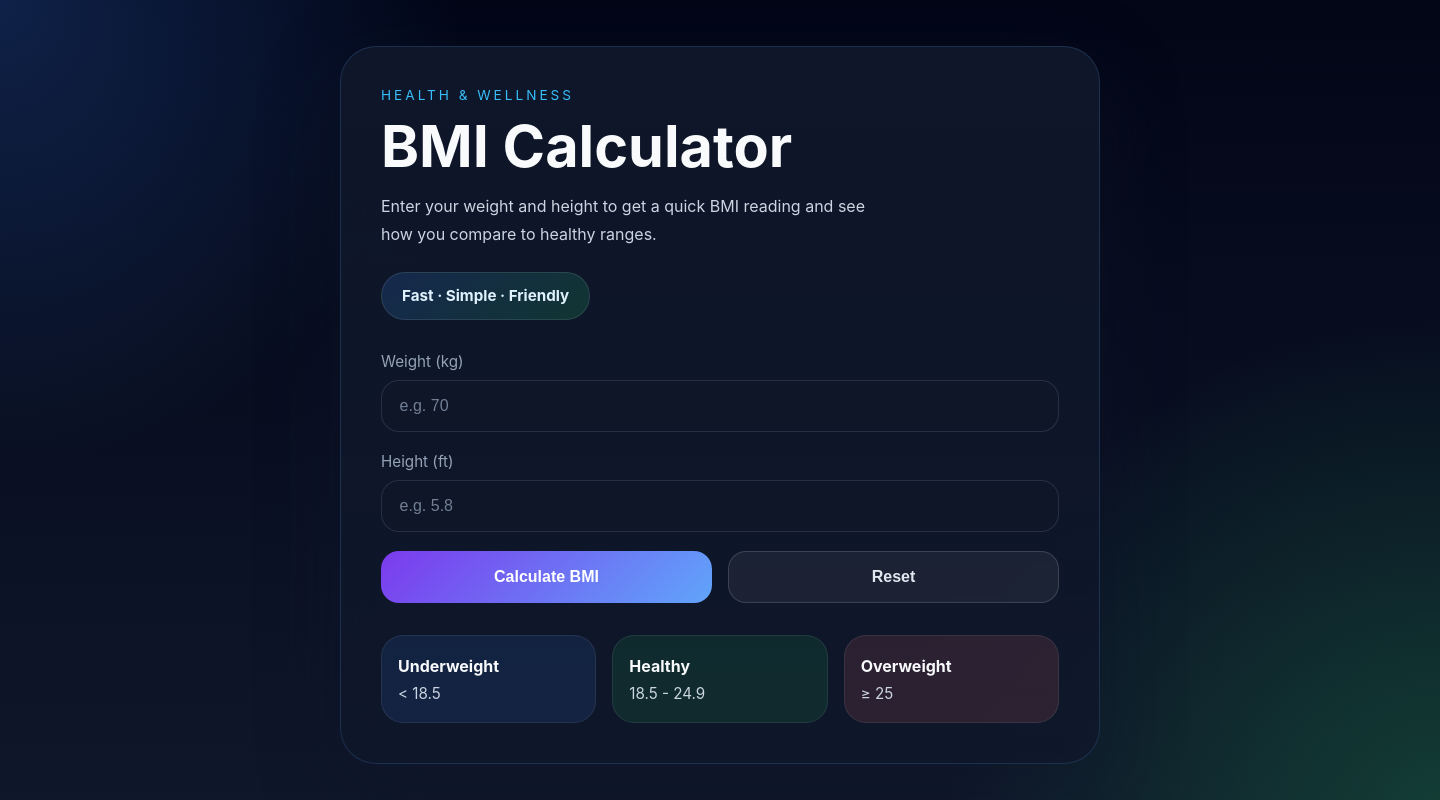
Test case: shows an underweight result for a low BMI
In the number field labelled "Weight (kg)": (720, 406) [381,380,1059,432], type "50"
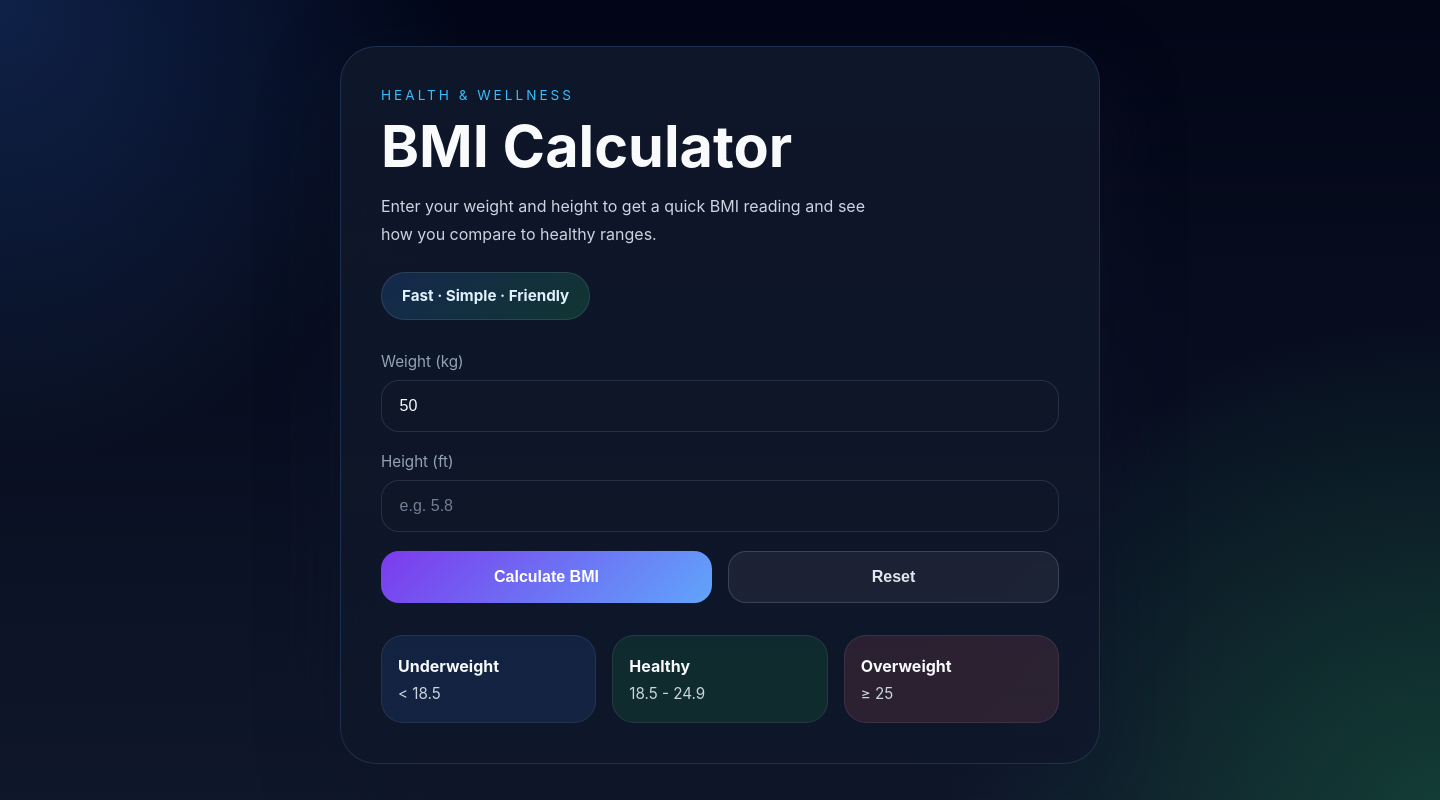
In the number field labelled "Height (ft)": (720, 506) [381,480,1059,532], type "5.8"
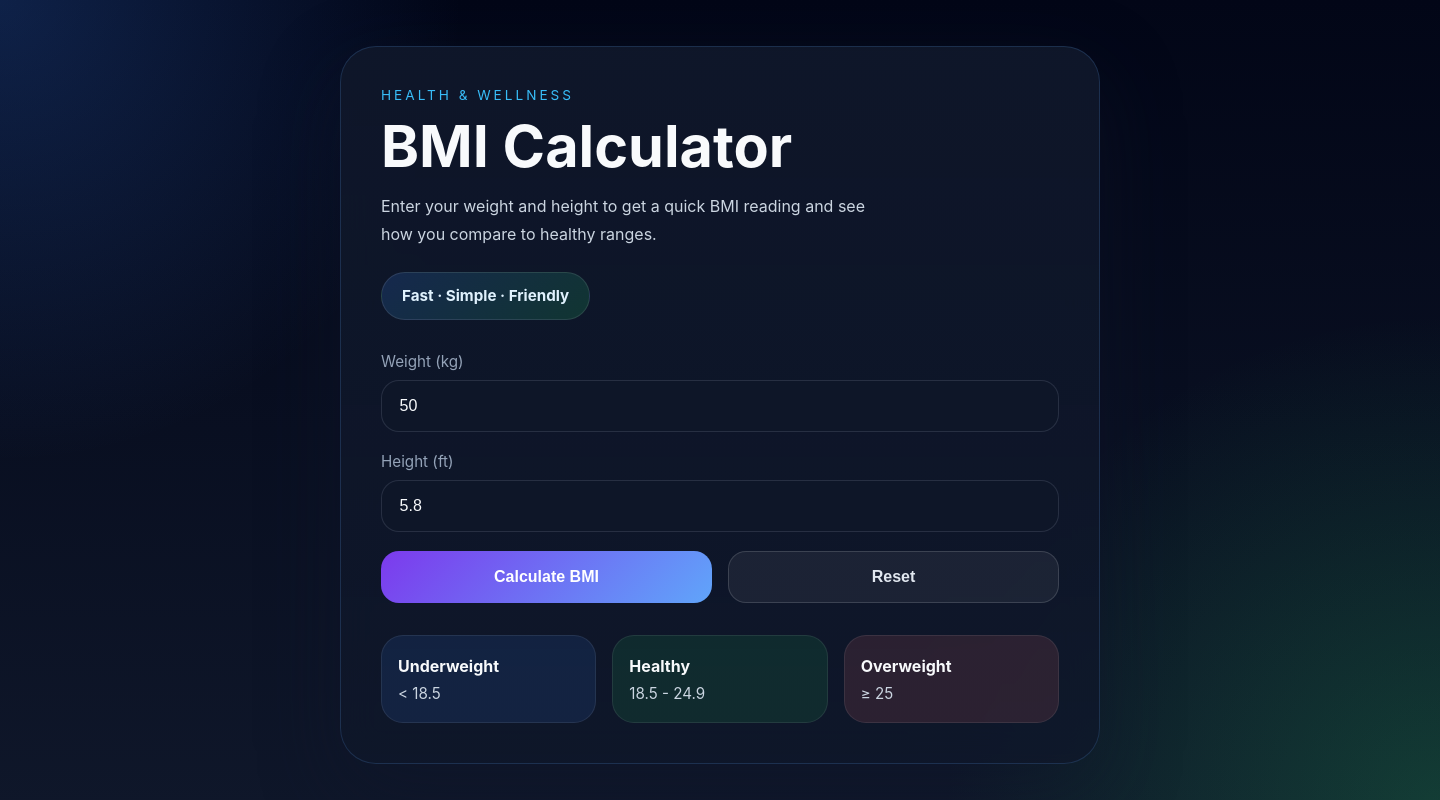
Click the button "Calculate BMI": (546, 577) [381,551,712,603]
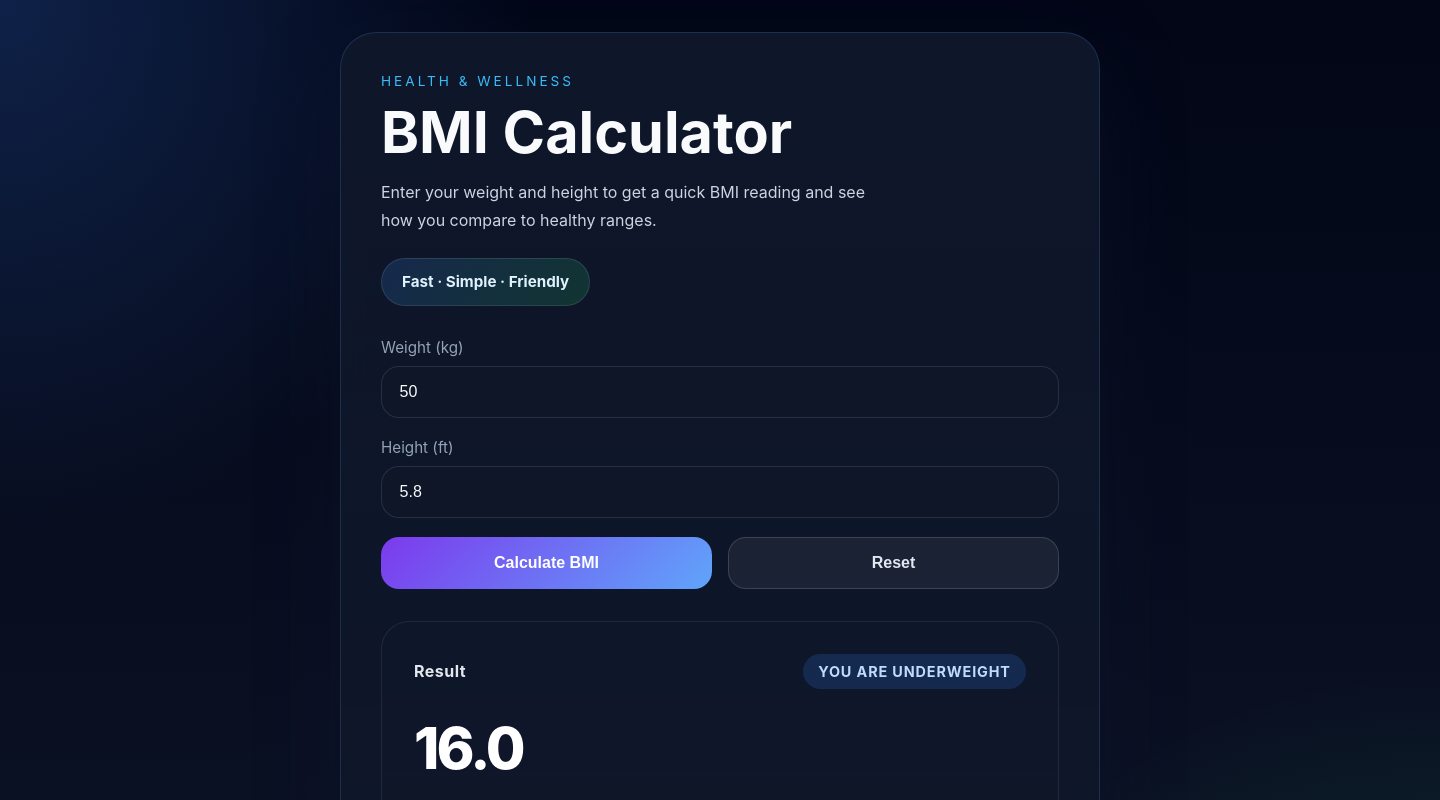
Now the text "You are underweight" is shown, box [803,654,1026,689]
